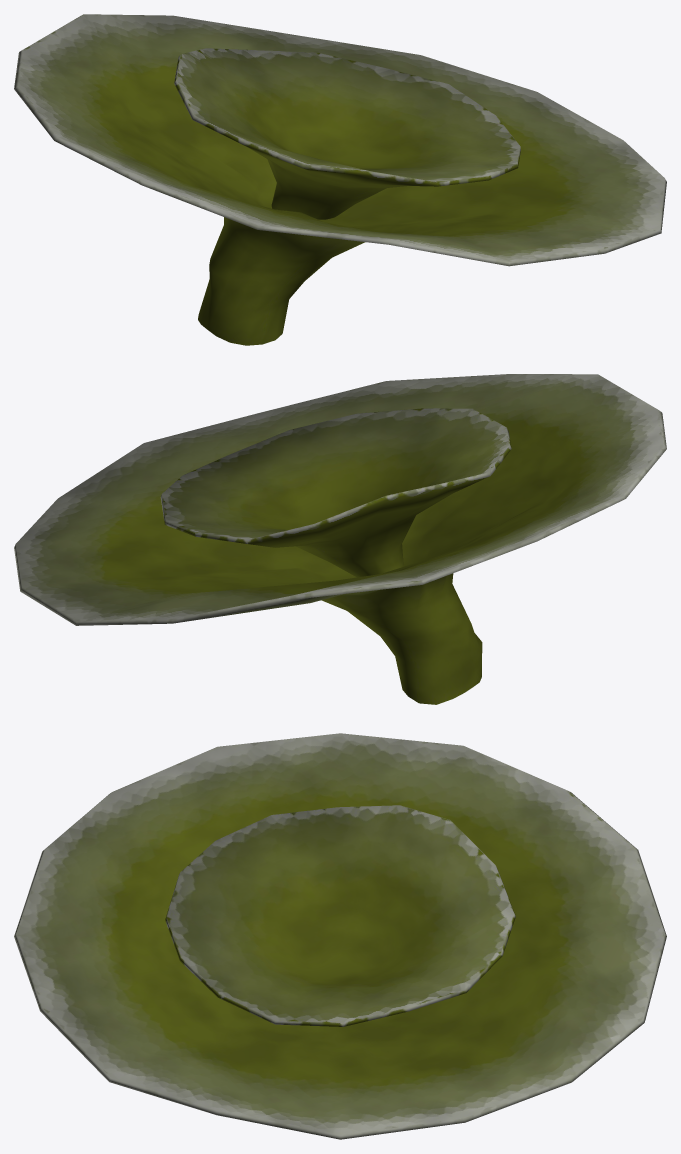
File: 29-Table.fbx
3 renders of one model, top to bottom at view 1: azimuth 30°, elevation 25°; view 2: azimuth 150°, elevation 25°; view 3: azimuth 270°, elevation 25°, orthographic. The views are drawn at different scales.
Visible parts, largest first — view 1: 29-Table_LOD00; view 2: 29-Table_LOD00; view 3: 29-Table_LOD00.
Boxes of the visible parts, box(x1,y1,x2,y2) form: 29-Table_LOD00: box(14, 14, 666, 345); 29-Table_LOD00: box(14, 374, 666, 704); 29-Table_LOD00: box(14, 733, 666, 1139).
Size of what is drawn, in the model's own units: 152 by 59.74 by 157.
